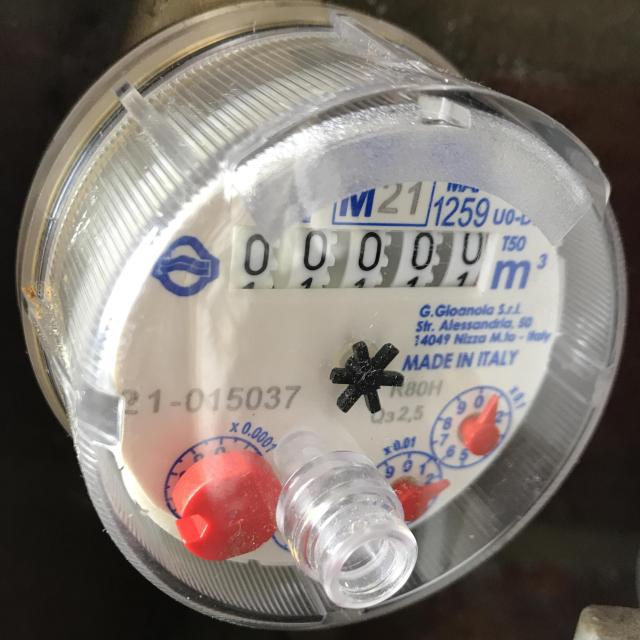gaz_meter: (92, 90, 624, 631)
indication: (232, 224, 494, 294)
